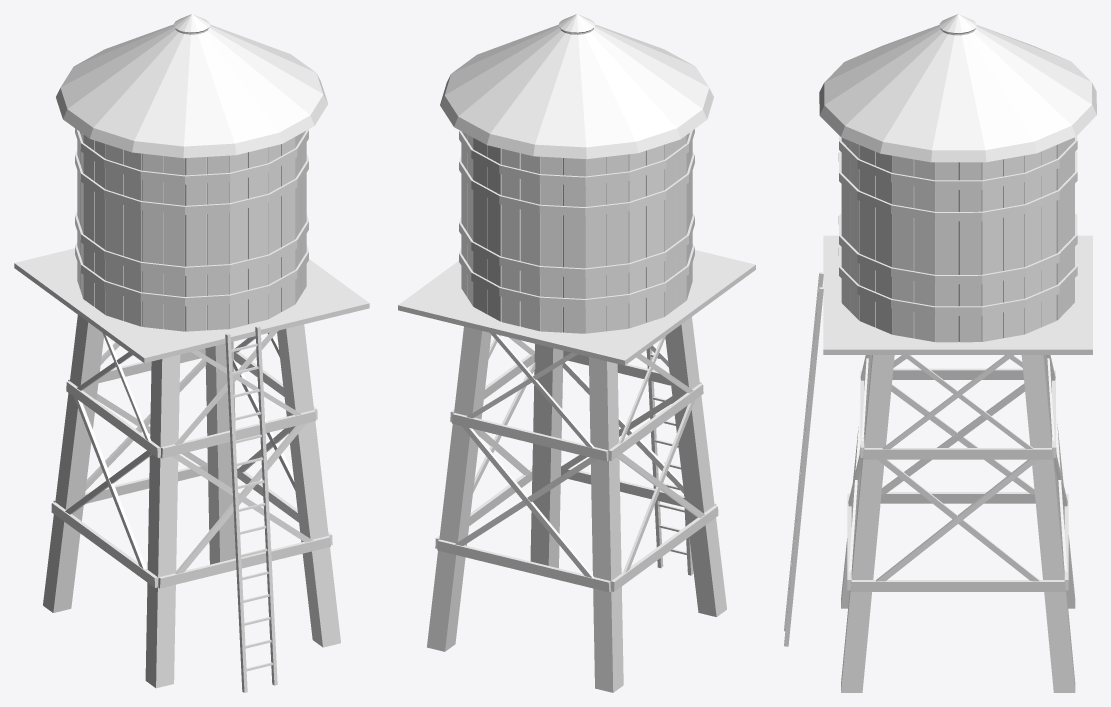
Rendered from Bld_Water_Tower_01.glb.
3 renders of one model, left to right at view 1: azimuth 30°, elevation 25°; view 2: azimuth 150°, elevation 25°; view 3: azimuth 270°, elevation 25°, orthographic. The views are drawn at different scales.
Parts seen in each view (by area): view 1: Bld_Water_Tower_01; view 2: Bld_Water_Tower_01; view 3: Bld_Water_Tower_01.
Part boxes in pixels (x1,y1,x2,y2): Bld_Water_Tower_01: (14,14,369,692); Bld_Water_Tower_01: (398,14,755,692); Bld_Water_Tower_01: (784,14,1096,692).
Bounding box in the file's own units: 4.66 × 11.71 × 5.25.
1 material, 1 textured.
